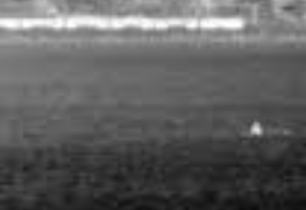Target: (250, 121, 262, 134)
